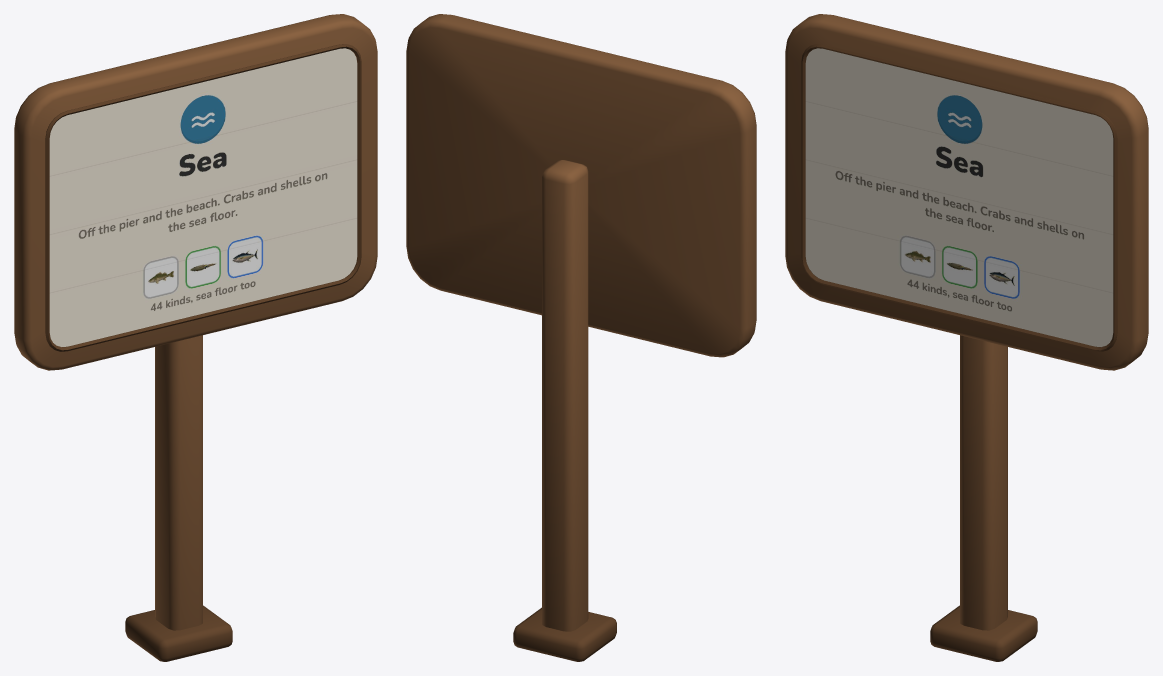
File: water-sign-sea-hd.glb
The picture shows the model from 3 angles, left to right: view 1: azimuth 30°, elevation 25°; view 2: azimuth 150°, elevation 25°; view 3: azimuth 330°, elevation 25°; orthographic projection. The views are drawn at different scales.
Visible parts, largest first — view 1: water-sign; view 2: water-sign; view 3: water-sign.
Boxes of the visible parts, x1,y1,x2,y2 form: water-sign: (14,14,377,661); water-sign: (406,14,756,661); water-sign: (785,14,1148,661).
Bounding box in the file's own units: 1.15 × 1.87 × 0.253.
2 materials, 1 textured.
